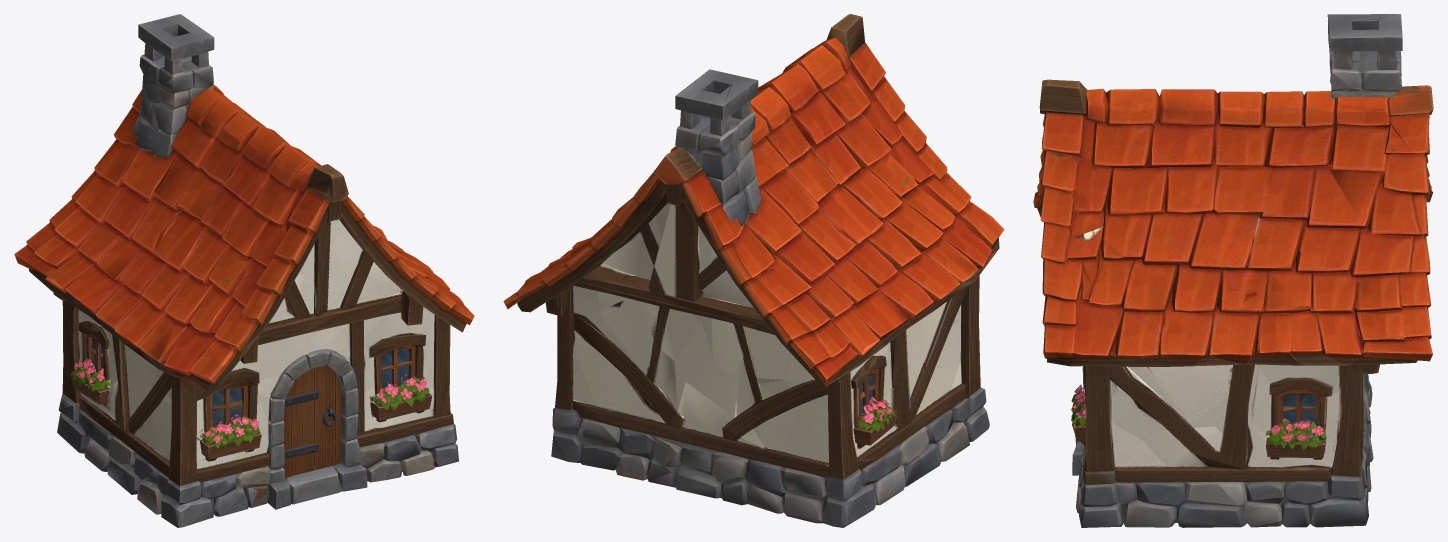
Rendered from meadow_house.glb.
3 views of the same model, side by side, from view 1: azimuth 30°, elevation 25°; view 2: azimuth 150°, elevation 25°; view 3: azimuth 270°, elevation 25° (orthographic). The views are drawn at different scales.
Size of the model in its own units: 1.59 by 1.9 by 1.65.
1 material, 1 textured.
